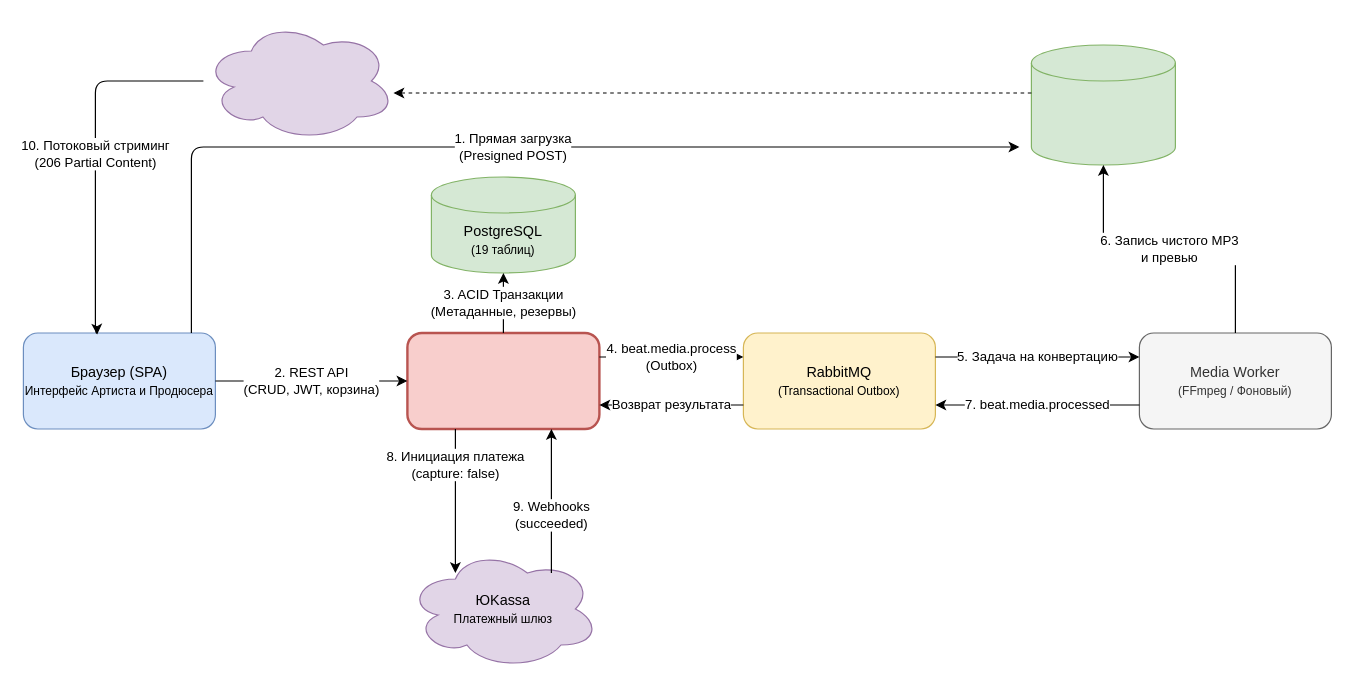
Image size: 1352x690. Some labels were removed from this diagram. The shapes that lost their labels are listed below. From the top down, each one's box as (x1, y1, x2, y2) in pixels, then its label:
(202, 20, 395, 141): CDN Раздача превью
(1030, 44, 1175, 165): S3-хранилище (Temp, Private, Public)
(406, 331, 600, 430): Core API (Модульный монолит)
